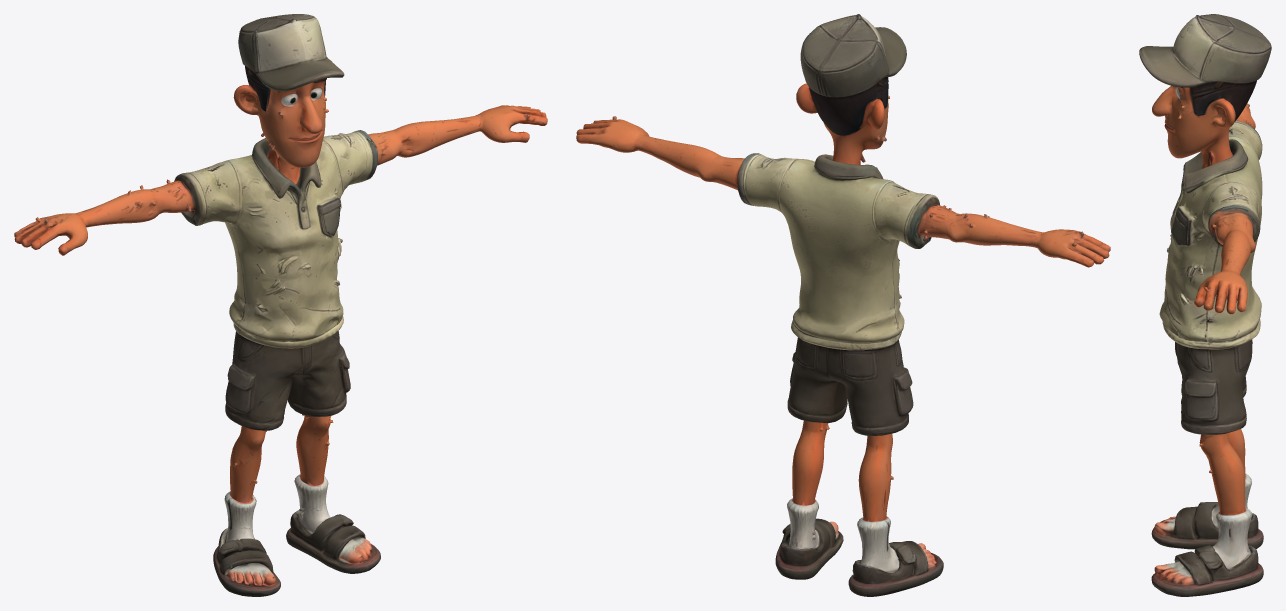
File: curbside_cal.glb
3 views of the same model, side by side, from view 1: azimuth 30°, elevation 25°; view 2: azimuth 150°, elevation 25°; view 3: azimuth 270°, elevation 25° (orthographic).
Visible parts, largest first — view 1: tripo_node_92ba09b3-d998-4b00-bc28-0e845b172889; view 2: tripo_node_92ba09b3-d998-4b00-bc28-0e845b172889; view 3: tripo_node_92ba09b3-d998-4b00-bc28-0e845b172889.
Part boxes in pixels (x1,y1,x2,y2): tripo_node_92ba09b3-d998-4b00-bc28-0e845b172889: [14, 14, 547, 596]; tripo_node_92ba09b3-d998-4b00-bc28-0e845b172889: [576, 14, 1110, 596]; tripo_node_92ba09b3-d998-4b00-bc28-0e845b172889: [1139, 14, 1271, 596].
Bounding box in the file's own units: 0.9749 × 0.9796 × 0.2147.
Materials: 1 (1 with a texture image).
